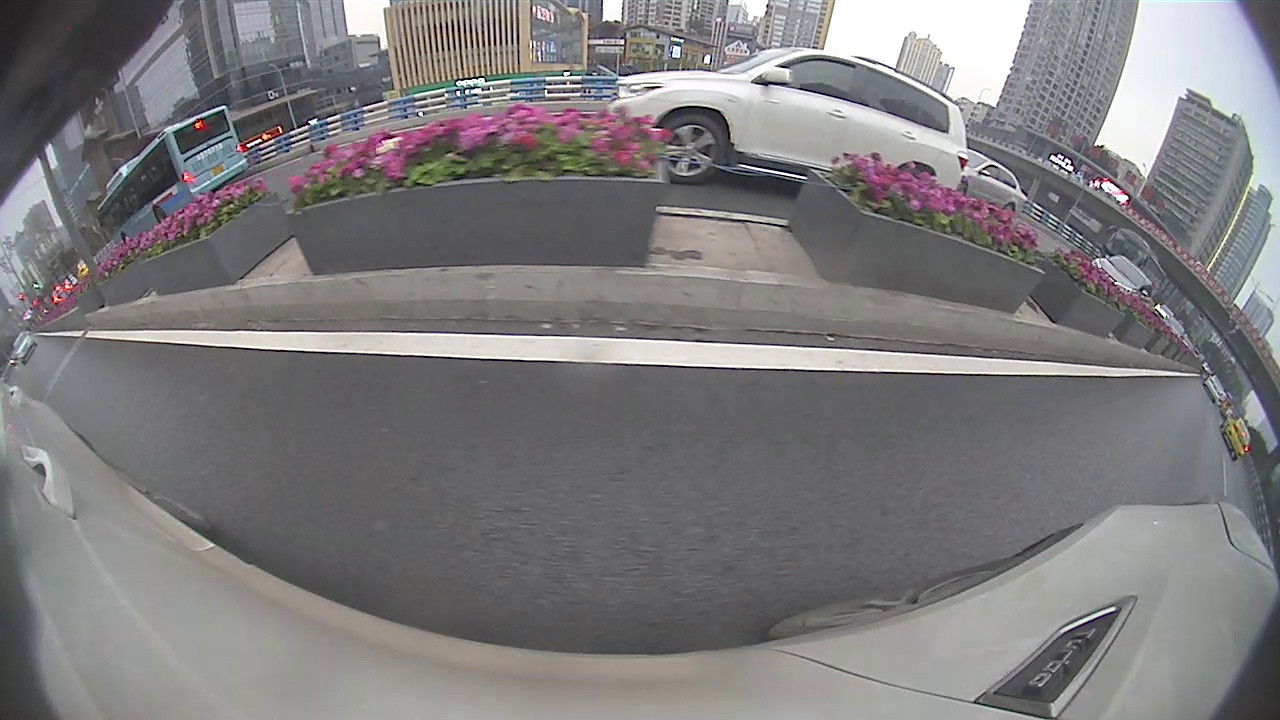car: (603, 48, 972, 188), (1219, 415, 1252, 463)
front: (655, 113, 724, 188)
rear: (154, 205, 169, 224)
